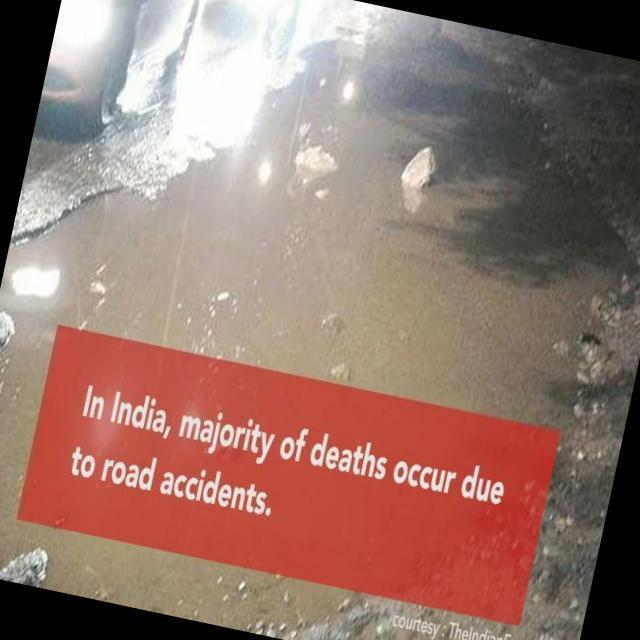pothole: (0, 52, 640, 640)
